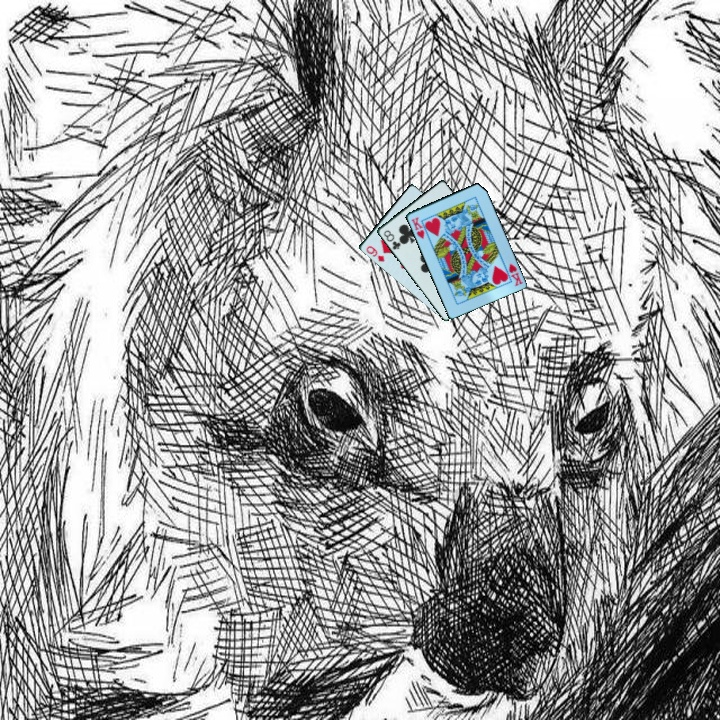8c: (380, 226, 403, 253)
9d: (362, 242, 387, 265)
Kh: (407, 213, 427, 242), (505, 260, 525, 289)
